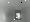person: (16, 11, 22, 21)
